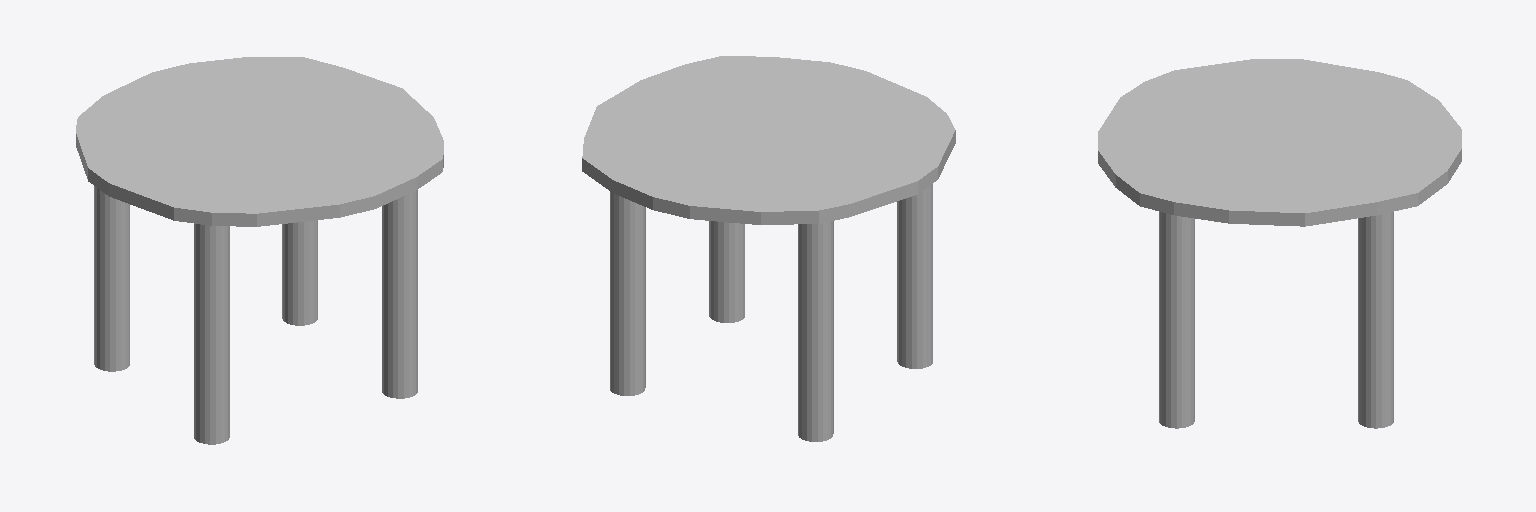
The model's file is table_01.obj.
3 renders of one model, left to right at view 1: azimuth 30°, elevation 25°; view 2: azimuth 150°, elevation 25°; view 3: azimuth 270°, elevation 25°, orthographic.
Visible parts, largest first — view 1: table table1, table1 tableLeg, table1 tableLeg1, table1 tableLeg3, table1 tableLeg2; view 2: table table1, table1 tableLeg3, table1 tableLeg2, table1 tableLeg, table1 tableLeg1; view 3: table table1, table1 tableLeg2, table1 tableLeg1.
Part boxes in pixels (bbox=[...]): table table1: bbox=[76, 57, 443, 226]; table1 tableLeg: bbox=[194, 224, 229, 444]; table1 tableLeg1: bbox=[382, 190, 417, 398]; table1 tableLeg3: bbox=[94, 186, 129, 371]; table1 tableLeg2: bbox=[282, 220, 317, 325]; table table1: bbox=[582, 56, 955, 224]; table1 tableLeg3: bbox=[798, 221, 833, 441]; table1 tableLeg2: bbox=[610, 192, 645, 395]; table1 tableLeg: bbox=[897, 184, 932, 368]; table1 tableLeg1: bbox=[709, 221, 744, 322]; table table1: bbox=[1098, 59, 1461, 226]; table1 tableLeg2: bbox=[1358, 212, 1393, 428]; table1 tableLeg1: bbox=[1159, 212, 1194, 428].
Bounding box in the file's own units: 4 × 2.89 × 3.98.